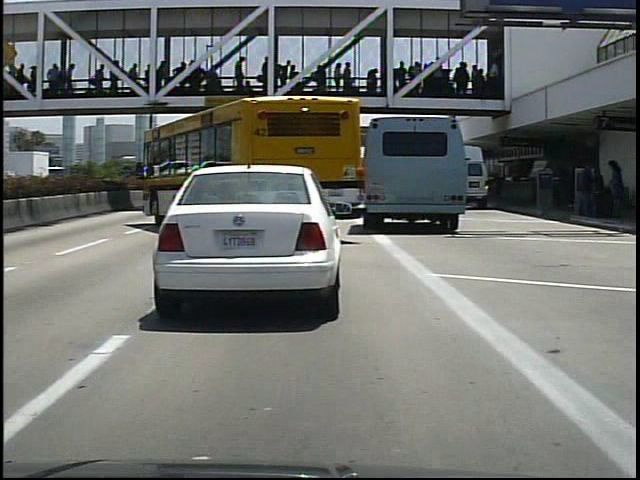person: (575, 157, 607, 218), (605, 155, 633, 220)
